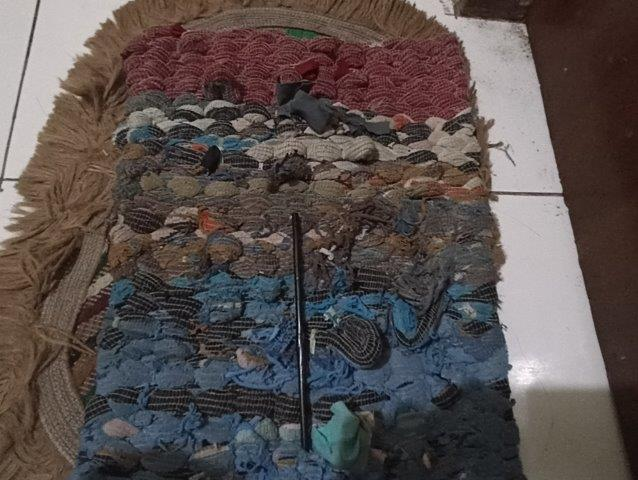sedotan: (293, 214, 309, 452)
